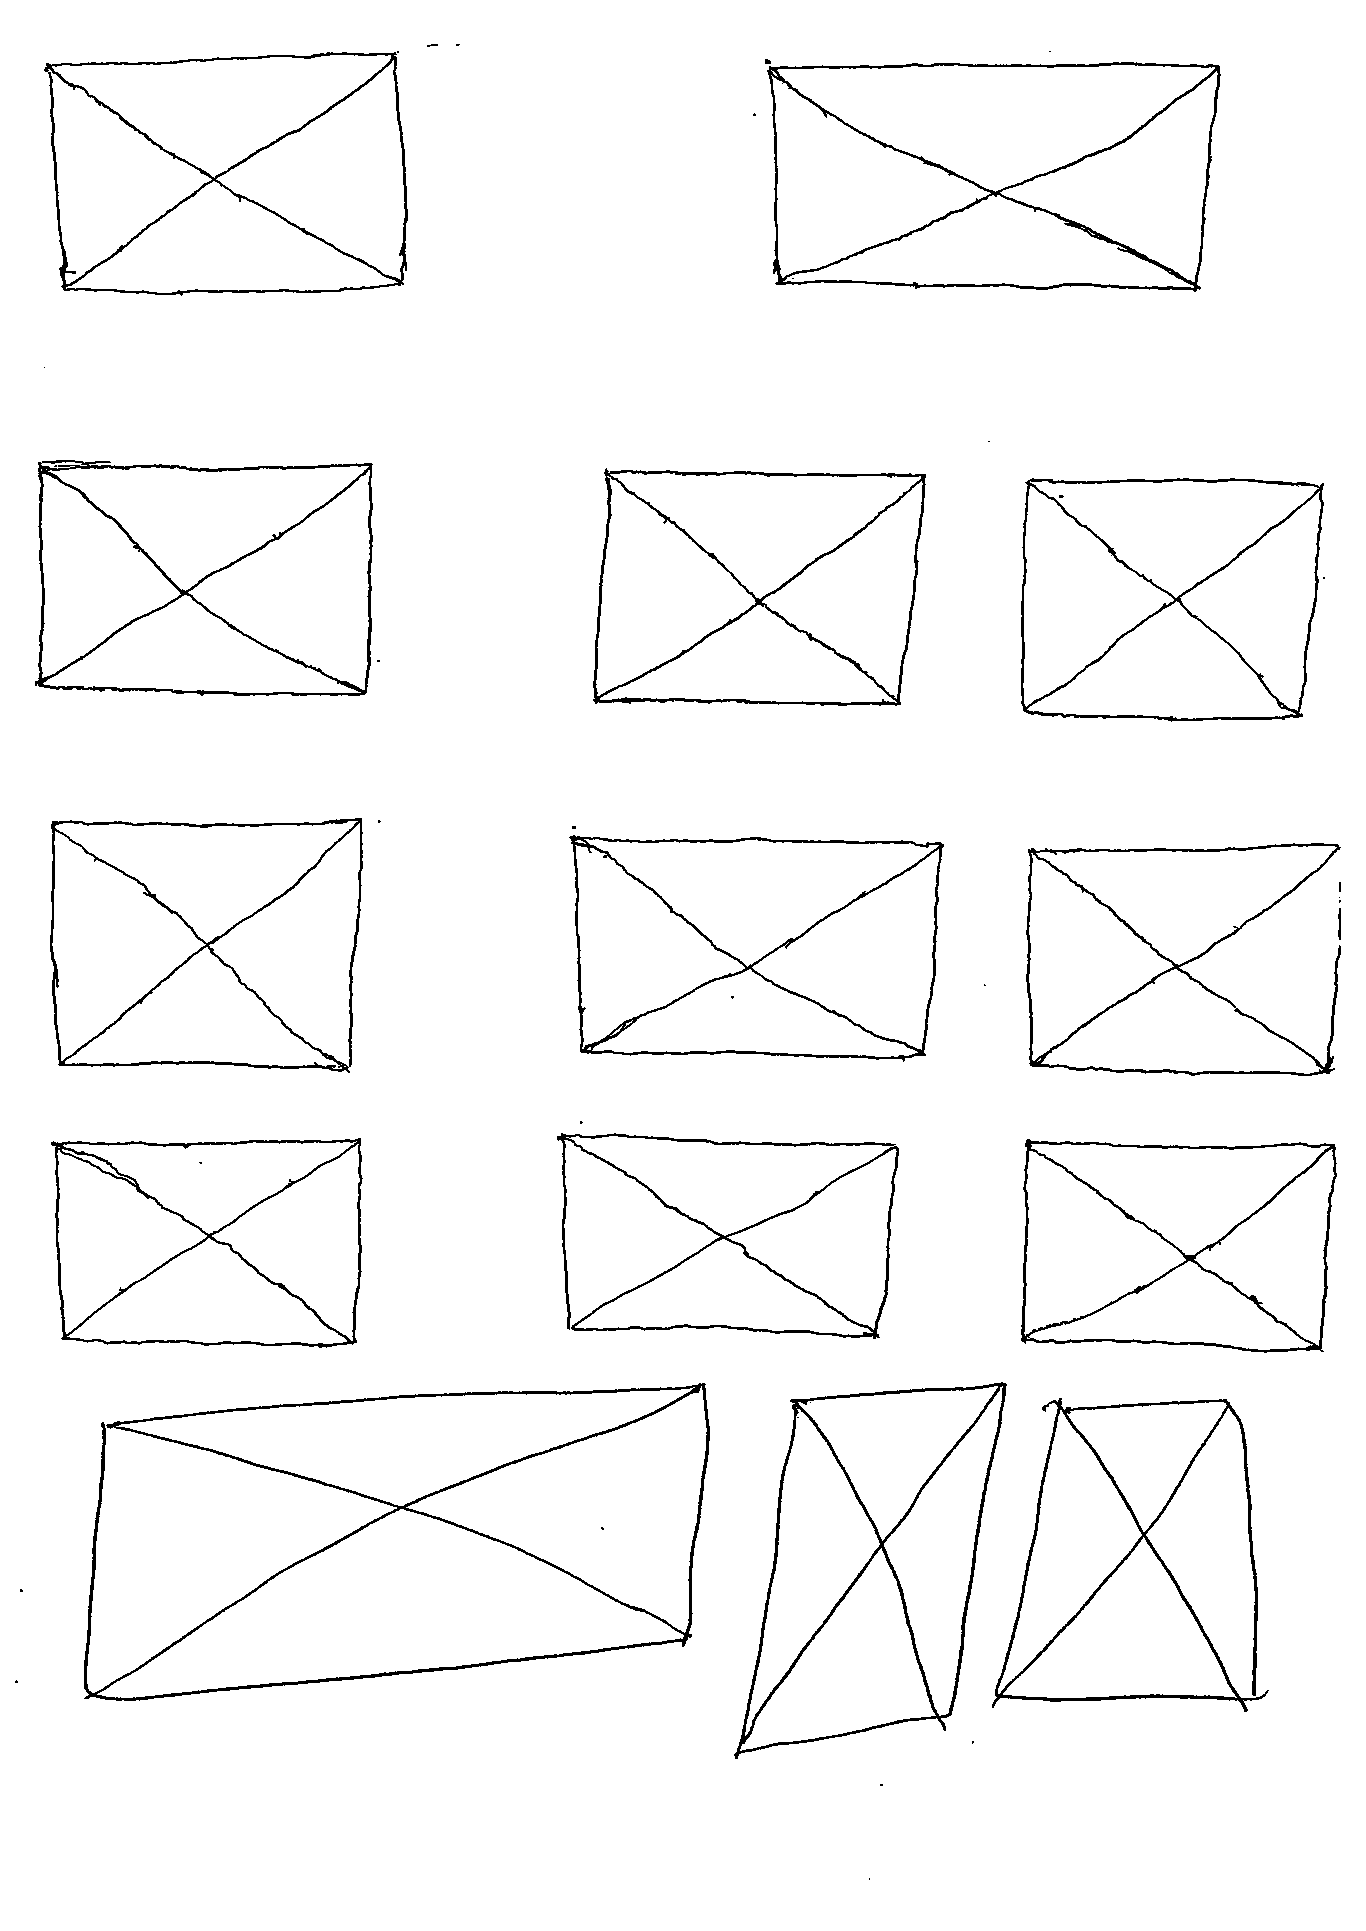Image: (80, 1382, 716, 1703), (764, 50, 1224, 294), (727, 1382, 1005, 1762), (41, 50, 412, 303), (571, 827, 945, 1068), (33, 455, 383, 702), (41, 812, 371, 1070), (588, 467, 927, 716), (995, 1400, 1263, 1709), (1022, 838, 1351, 1079), (1013, 476, 1325, 726), (1016, 1133, 1345, 1362), (556, 1127, 900, 1338), (47, 1133, 368, 1350)
